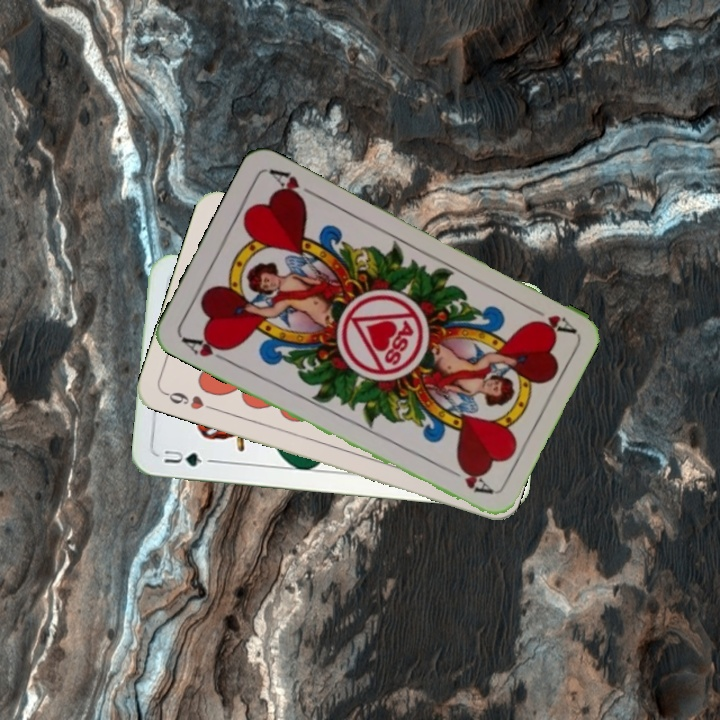GU: (160, 446, 215, 469)
H9: (160, 387, 218, 413)
HA: (521, 300, 577, 336), (177, 332, 233, 366)
